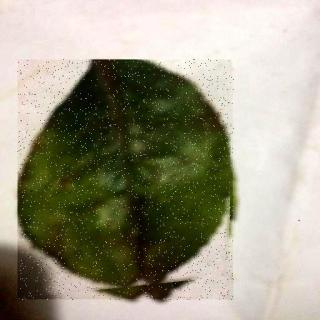Red Leaf Spot: (19, 61, 235, 302)
